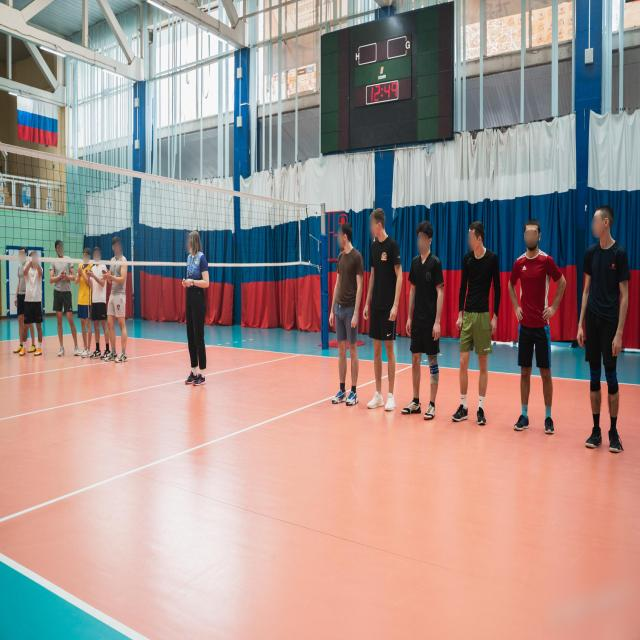Person: (504, 211, 572, 450), (579, 198, 632, 468), (448, 213, 499, 443), (363, 204, 402, 417), (326, 219, 366, 421), (408, 216, 440, 426), (180, 232, 212, 392), (106, 236, 137, 368), (19, 252, 48, 358), (6, 248, 32, 358), (56, 238, 74, 364), (90, 245, 108, 367), (76, 246, 94, 361)
